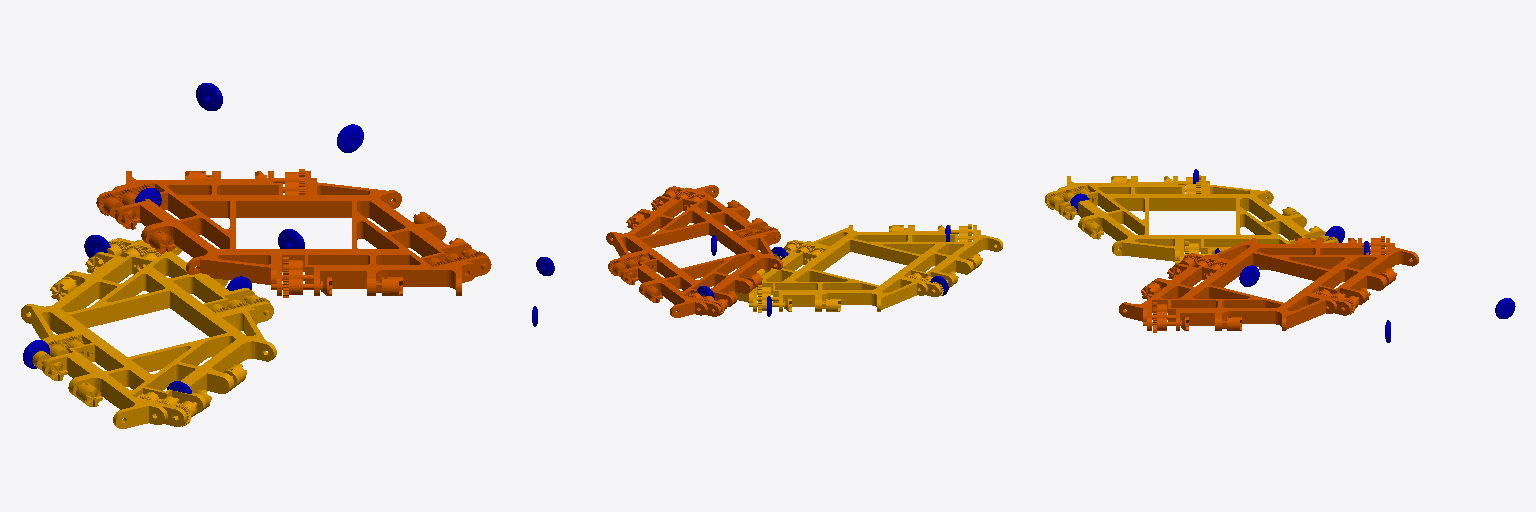
URDF robot description (miura-ori_pattern):
<robot name="miura-ori_pattern">

  <!-- Materials -->
  <material name="blue">
    <color rgba = "0 0 0.8 1"/>
  </material>
  <material name="red">
    <color rgba = "0.8 0 0 1"/>
  </material>

  <!-- base_link -->
  <link name="base_link">
    <visual>
      <origin rpy="0.0 0 0" xyz="0 0 0"/>
      <geometry>
        <mesh filename="mori-design-2.stl" scale="1.00 1.00 1.00"/>
      </geometry>
    </visual>
    <collision>
      <origin rpy="0.0 0 0" xyz="0 0 0"/>
      <geometry>
        <mesh filename="mori-design-2.stl" scale="1.00 1.00 1.00"/>
      </geometry>
    </collision>
    <inertial>
      <mass value="0.100"/>
      <inertia ixx="6.25e-05" ixy="0.0" ixz="0.0" iyy="0.00025" iyz="0.0" izz="0.00019"/> <!--w=0.15, d=0.086, h=0.01, m=0.1-->
    </inertial>
  </link>

  <!-- wheel1 -->
  <link name="wheel1">
    <visual>
      <origin rpy="0.0 0 0" xyz="-8 0 -8"/>
      <geometry>
        <mesh filename="wheel.stl" scale="1.00 1.00 1.00"/>
      </geometry>
      <material name="blue"/>
    </visual>
    <collision>
      <origin rpy="0.0 0 0" xyz="-8 0 -8"/>
      <geometry>
        <mesh filename="wheel.stl" scale="1.00 1.00 1.00"/>
      </geometry>
    </collision>
  </link>

  <joint name="joint1" type="revolute">
    <parent link="base_link"/>
    <child link="wheel1"/>
    <axis xyz="0 1 0"/>
    <origin rpy="0 0 0" xyz="5 103 8"/>
    <limit effort="40" lower="-3.14" upper="3.14" velocity="0.1"/>
  </joint>

  <!-- wheel2 -->
  <link name="wheel2">
    <visual>
      <origin rpy="0.0 0 0" xyz="-8 0 -8"/>
      <geometry>
        <mesh filename="wheel.stl" scale="1.00 1.00 1.00"/>
      </geometry>
      <material name="blue"/>
    </visual>
    <collision>
      <origin rpy="0.0 0 0" xyz="-8 0 -8"/>
      <geometry>
        <mesh filename="wheel.stl" scale="1.00 1.00 1.00"/>
      </geometry>
    </collision>
  </link>

  <joint name="joint2" type="revolute">
    <parent link="base_link"/>
    <child link="wheel2"/>
    <axis xyz="0 1 0"/>
    <origin rpy="0 0 0" xyz="135 118 8"/>
    <limit effort="40" lower="-3.14" upper="3.14" velocity="0.1"/>
  </joint>

  <!-- wheel3 -->
  <link name="wheel3">
    <visual>
      <origin rpy="0.0 0 0" xyz="-8 0 -8"/>
      <geometry>
        <mesh filename="wheel.stl" scale="1.00 1.00 1.00"/>
      </geometry>
      <material name="blue"/>
    </visual>
    <collision>
      <origin rpy="0.0 0 0" xyz="-8 0 -8"/>
      <geometry>
        <mesh filename="wheel.stl" scale="1.00 1.00 1.00"/>
      </geometry>
    </collision>
  </link>

  <joint name="joint3" type="revolute">
    <parent link="base_link"/>
    <child link="wheel3"/>
    <axis xyz="0 1 0"/>
    <origin rpy="0 0 2.0944" xyz="46 25 8"/>
    <limit effort="40" lower="-3.14" upper="3.14" velocity="0.1"/>
  </joint>

  <!-- wheel4 -->
  <link name="wheel4">
    <visual>
      <origin rpy="0.0 0 0" xyz="-8 0 -8"/>
      <geometry>
        <mesh filename="wheel.stl" scale="1.00 1.00 1.00"/>
      </geometry>
      <material name="blue"/>
    </visual>
    <collision>
      <origin rpy="0.0 0 0" xyz="-8 0 -8"/>
      <geometry>
        <mesh filename="wheel.stl" scale="1.00 1.00 1.00"/>
      </geometry>
    </collision>
  </link>

  <joint name="joint4" type="revolute">
    <parent link="base_link"/>
    <child link="wheel4"/>
    <axis xyz="0 1 0"/>
    <origin rpy="0 0 2.0944" xyz="99 202 8"/>
    <limit effort="40" lower="-3.14" upper="3.14" velocity="0.1"/>
  </joint>

  <!-- base_link -->
  <link name="base_link_b">
    <visual>
      <origin rpy="0.0 0 -2.0944" xyz="0 150 0"/>
      <geometry>
        <mesh filename="mori-design-2.stl" scale="1.00 1.00 1.00"/>
      </geometry>
    </visual>
    <collision>
      <origin rpy="0.0 0 -2.0944" xyz="0 150 0"/>
      <geometry>
        <mesh filename="mori-design-2.stl" scale="1.00 1.00 1.00"/>
      </geometry>
    </collision>
    <inertial>
      <mass value="0.100"/>
      <inertia ixx="6.25e-05" ixy="0.0" ixz="0.0" iyy="0.00025" iyz="0.0" izz="0.00019"/> <!--w=0.15, d=0.086, h=0.01, m=0.1-->
    </inertial>
  </link>

  <joint name="base_link_b_joint" type="revolute">
    <parent link="base_link"/>
    <child link="base_link_b"/>
    <!-- <axis xyz="0 1 0"/>
    <origin rpy="0 0 -2.0944" xyz="139 230 0"/> -->
    <axis xyz="0 1 0"/>
    <origin rpy="0 0 0" xyz="135 118 8"/>
    <limit effort="40" lower="-3.14" upper="3.14" velocity="0.1"/>
  </joint>

  <!-- wheel1 -->
  <link name="wheel1_b">
    <visual>
      <origin rpy="0.0 0 0" xyz="-8 0 -8"/>
      <geometry>
        <mesh filename="wheel.stl" scale="1.00 1.00 1.00"/>
      </geometry>
      <material name="blue"/>
    </visual>
    <collision>
      <origin rpy="0.0 0 0" xyz="-8 0 -8"/>
      <geometry>
        <mesh filename="wheel.stl" scale="1.00 1.00 1.00"/>
      </geometry>
    </collision>
  </link>

  <joint name="joint1_b" type="revolute">
    <parent link="base_link_b"/>
    <child link="wheel1_b"/>
    <axis xyz="0 1 0"/>
    <origin rpy="0 0 0" xyz="5 103 8"/>
    <limit effort="40" lower="-3.14" upper="3.14" velocity="0.1"/>
  </joint>

  <!-- wheel2 -->
  <link name="wheel2_b">
    <visual>
      <origin rpy="0.0 0 0" xyz="-8 0 -8"/>
      <geometry>
        <mesh filename="wheel.stl" scale="1.00 1.00 1.00"/>
      </geometry>
      <material name="blue"/>
    </visual>
    <collision>
      <origin rpy="0.0 0 0" xyz="-8 0 -8"/>
      <geometry>
        <mesh filename="wheel.stl" scale="1.00 1.00 1.00"/>
      </geometry>
    </collision>
  </link>

  <joint name="joint2_b" type="revolute">
    <parent link="base_link_b"/>
    <child link="wheel2_b"/>
    <axis xyz="0 1 0"/>
    <origin rpy="0 0 0" xyz="135 118 8"/>
    <limit effort="40" lower="-3.14" upper="3.14" velocity="0.1"/>
  </joint>

  <!-- wheel3 -->
  <link name="wheel3_b">
    <visual>
      <origin rpy="0.0 0 0" xyz="-8 0 -8"/>
      <geometry>
        <mesh filename="wheel.stl" scale="1.00 1.00 1.00"/>
      </geometry>
      <material name="blue"/>
    </visual>
    <collision>
      <origin rpy="0.0 0 0" xyz="-8 0 -8"/>
      <geometry>
        <mesh filename="wheel.stl" scale="1.00 1.00 1.00"/>
      </geometry>
    </collision>
  </link>

  <joint name="joint3_b" type="revolute">
    <parent link="base_link_b"/>
    <child link="wheel3_b"/>
    <axis xyz="0 1 0"/>
    <origin rpy="0 0 2.0944" xyz="46 25 8"/>
    <limit effort="40" lower="-3.14" upper="3.14" velocity="0.1"/>
  </joint>

  <!-- wheel4 -->
  <link name="wheel4_b">
    <visual>
      <origin rpy="0.0 0 0" xyz="-8 0 -8"/>
      <geometry>
        <mesh filename="wheel.stl" scale="1.00 1.00 1.00"/>
      </geometry>
      <material name="blue"/>
    </visual>
    <collision>
      <origin rpy="0.0 0 0" xyz="-8 0 -8"/>
      <geometry>
        <mesh filename="wheel.stl" scale="1.00 1.00 1.00"/>
      </geometry>
    </collision>
  </link>

  <joint name="joint4_b" type="revolute">
    <parent link="base_link_b"/>
    <child link="wheel4_b"/>
    <axis xyz="0 1 0"/>
    <origin rpy="0 0 2.0944" xyz="99 202 8"/>
    <limit effort="40" lower="-3.14" upper="3.14" velocity="0.1"/>
  </joint>
</robot>

--- Facts derived from the render (not from the file) ---
Views: 3 orthographic renders of the robot side by side, from view 1: azimuth 30°, elevation 25°; view 2: azimuth 150°, elevation 25°; view 3: azimuth 270°, elevation 25°.
Robot: miura-ori_pattern — 10 links, 9 joints (9 revolute); root link base_link; default pose: all joints at 0.
Links seen in each view (by area): view 1: base_link_b, base_link, wheel2_b, wheel4_b; view 2: base_link_b, base_link; view 3: base_link_b, base_link.
Boxes of the visible links, bbox=[...] form: base_link_b: bbox=[96, 169, 491, 297]; base_link: bbox=[21, 238, 276, 428]; wheel2_b: bbox=[337, 124, 363, 152]; wheel4_b: bbox=[196, 83, 222, 110]; base_link_b: bbox=[606, 185, 782, 317]; base_link: bbox=[735, 224, 1002, 312]; base_link_b: bbox=[1119, 236, 1418, 332]; base_link: bbox=[1045, 175, 1338, 269].
Size in the robot's own frame: 281 by 326 by 23.99 metres.
Meshes: 2 distinct files referenced, 10 mesh visuals loaded (2 binary STL).
